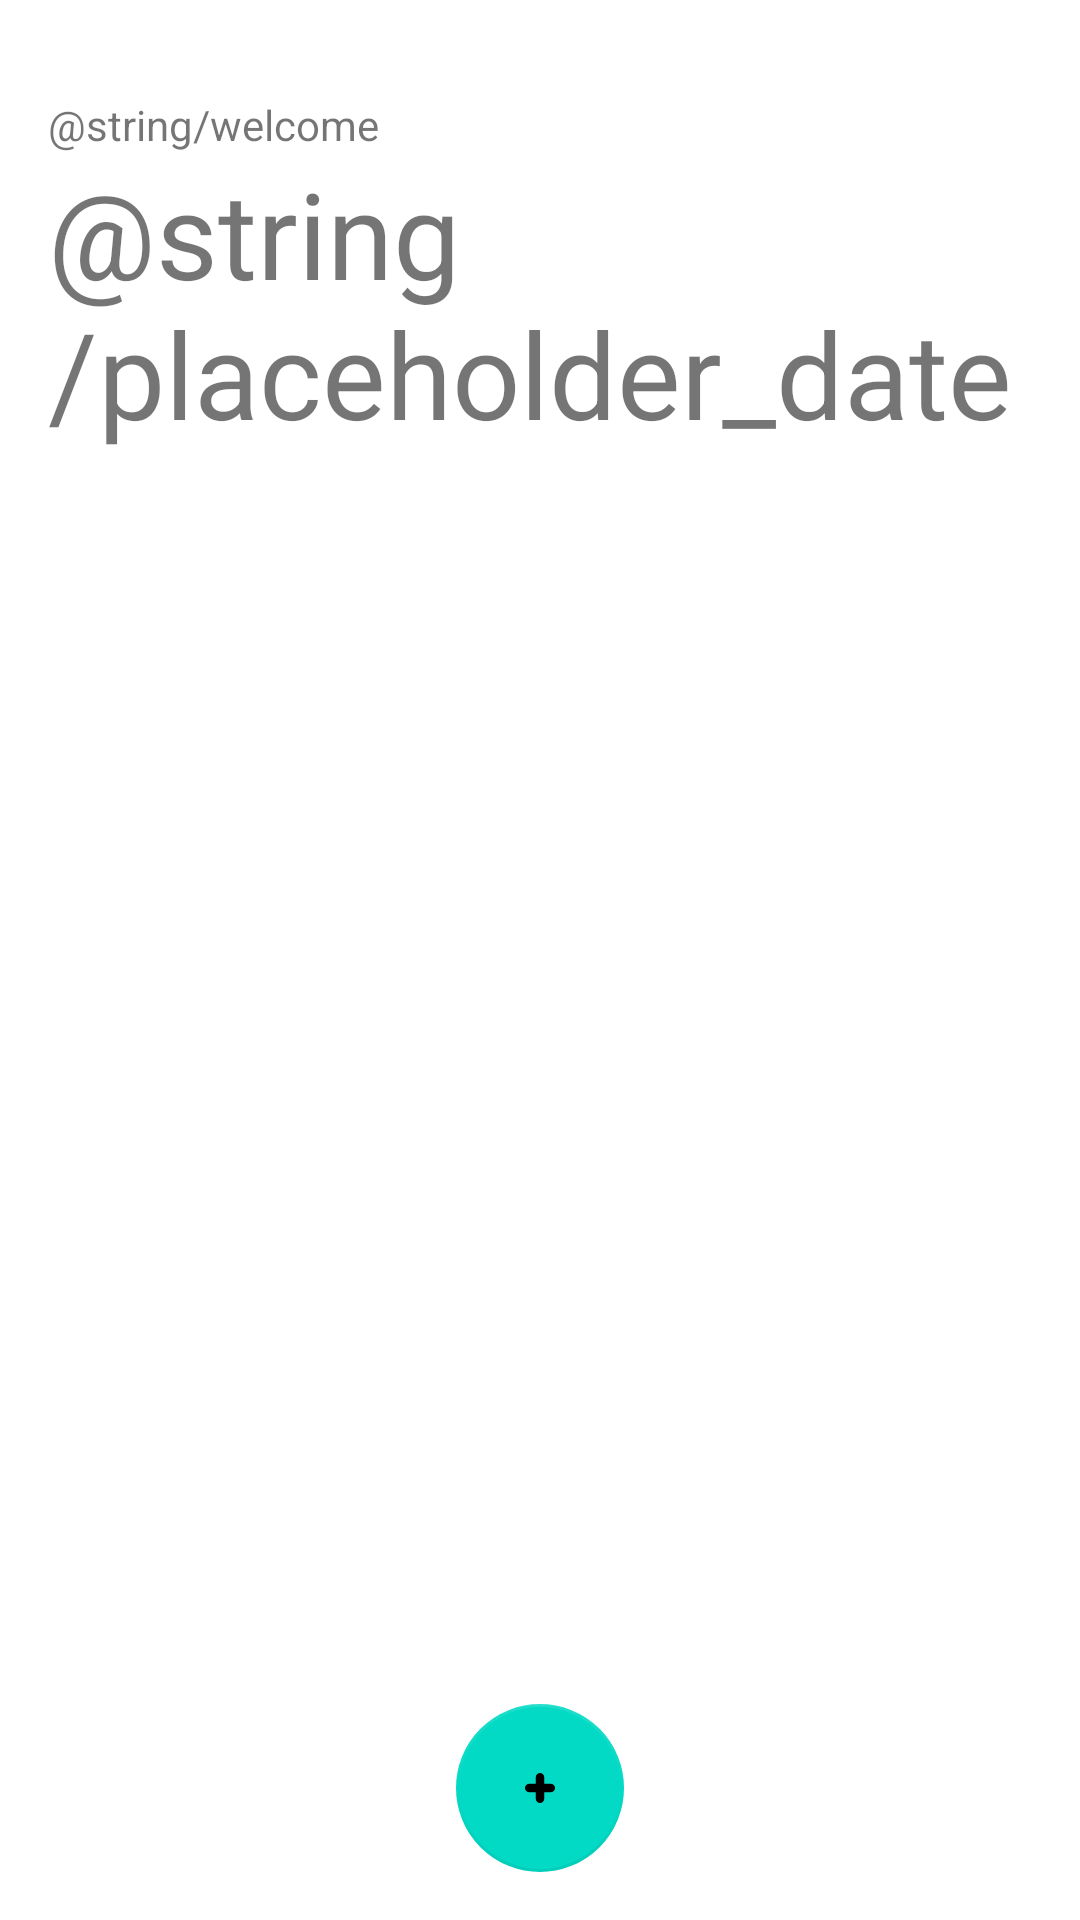

Icons on this 1080px x 1920px Android screen, each with the point to tap as (x=x, y=y):
ppr plus: (x=540, y=1788)
